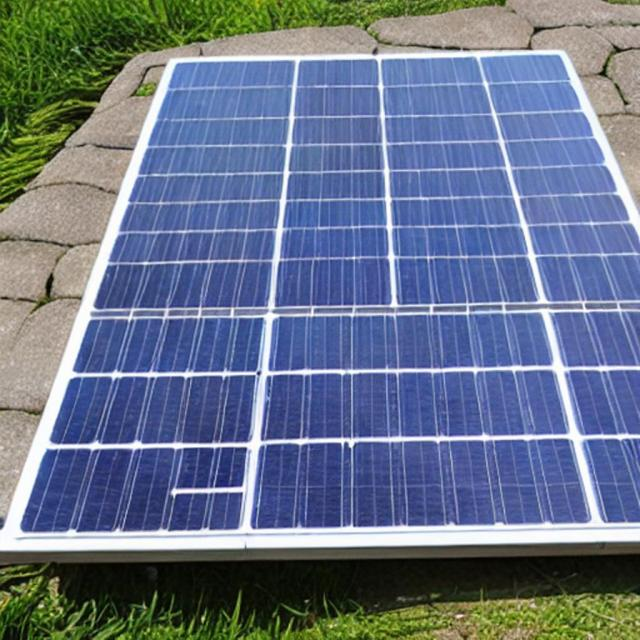faulty: (16, 49, 639, 537)
